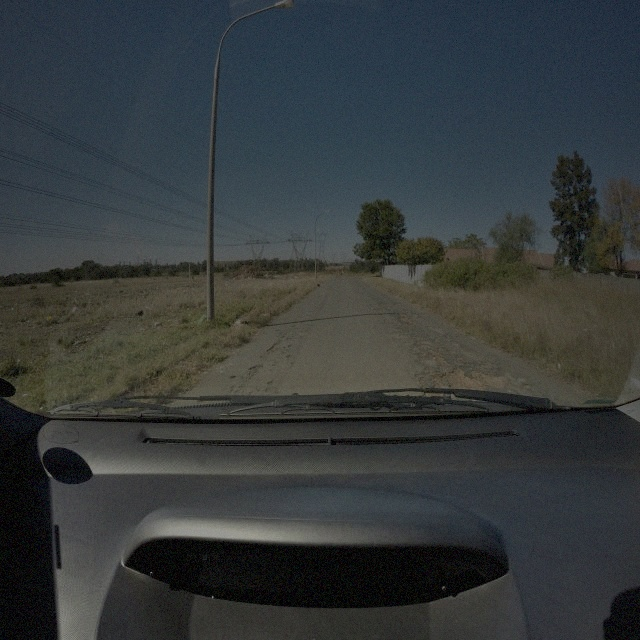pothole: (446, 365, 510, 390), (422, 365, 442, 388), (426, 349, 448, 367), (266, 339, 284, 356), (398, 310, 415, 327), (245, 361, 262, 378)
